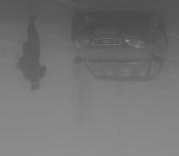person: (16, 16, 47, 91)
